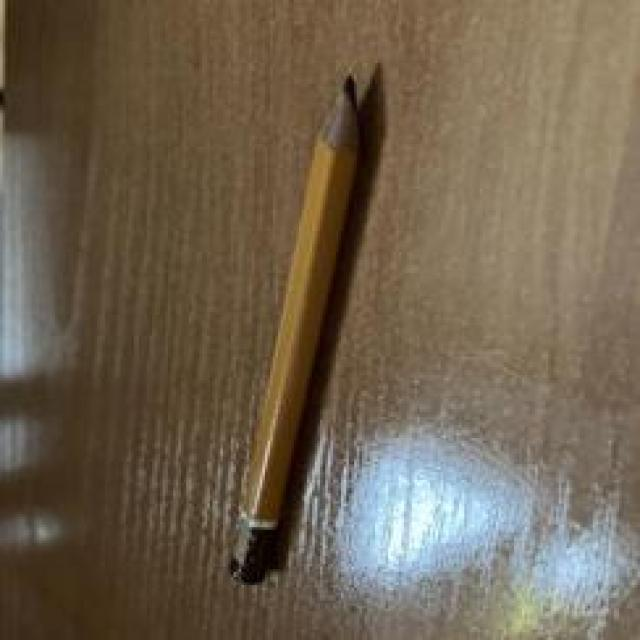pencil: (236, 78, 383, 588)
